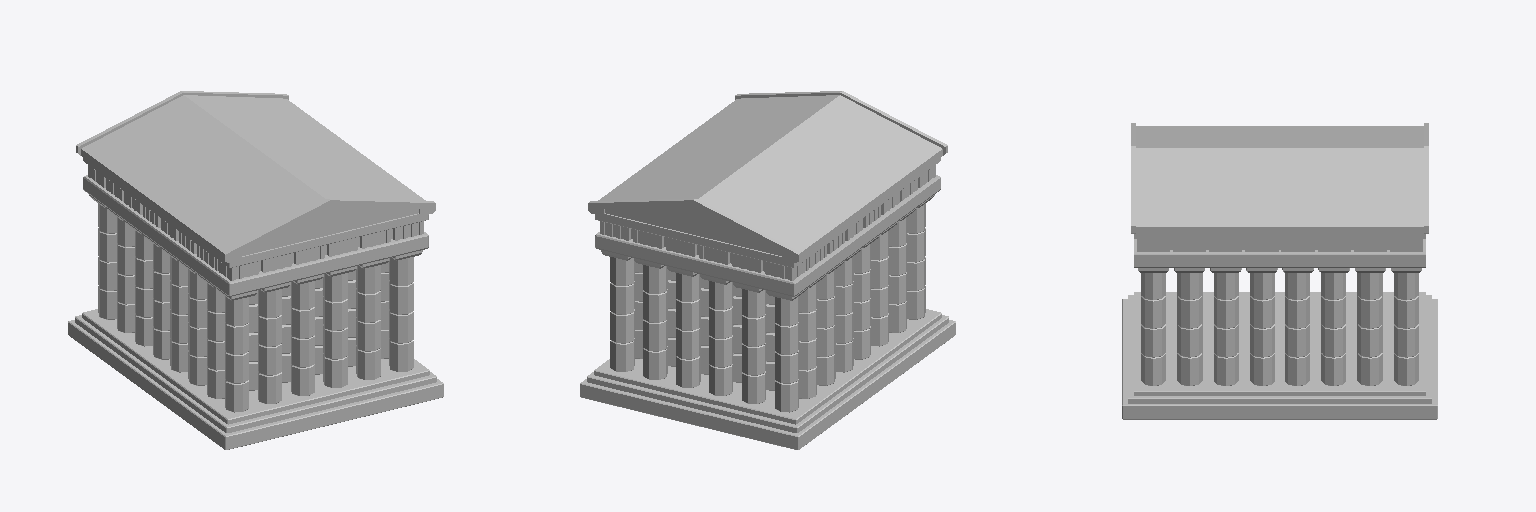
The model's file is Parthenon.obj.
3 renders of one model, left to right at view 1: azimuth 30°, elevation 25°; view 2: azimuth 150°, elevation 25°; view 3: azimuth 270°, elevation 25°, orthographic.
Visible parts, largest first — view 1: Cube_Cube.007, pillars_a_Cylinder.001, pillars_b_Cylinder.003, base_Cube, cieling_Cube.002, base_topper_2_Cube.005, fancy_Cube.006, base_topper_Cube.001, cieling_2_Cube.004, pillar_tops_Cube.003; view 2: Cube_Cube.007, pillars_b_Cylinder.003, pillars_a_Cylinder.001, base_Cube, cieling_Cube.002, base_topper_2_Cube.005, fancy_Cube.006, base_topper_Cube.001, cieling_2_Cube.004, pillar_tops_Cube.003; view 3: Cube_Cube.007, pillars_b_Cylinder.003, base_topper_2_Cube.005, pillars_a_Cylinder.001, base_Cube, cieling_Cube.002, fancy_Cube.006, base_topper_Cube.001, cieling_2_Cube.004, pillar_tops_Cube.003.
Part boxes in pixels (x1,y1,x2,y2): Cube_Cube.007: (76, 91, 435, 262); pillars_a_Cylinder.001: (100, 205, 407, 410); pillars_b_Cylinder.003: (98, 203, 413, 412); base_Cube: (68, 320, 443, 449); cieling_Cube.002: (83, 175, 428, 296); base_topper_2_Cube.005: (82, 309, 429, 424); fancy_Cube.006: (88, 165, 423, 280); base_topper_Cube.001: (75, 315, 436, 432); cieling_2_Cube.004: (83, 158, 428, 267); pillar_tops_Cube.003: (89, 195, 422, 300); Cube_Cube.007: (588, 91, 947, 262); pillars_b_Cylinder.003: (610, 204, 925, 412); pillars_a_Cylinder.001: (616, 203, 925, 410); base_Cube: (580, 320, 955, 449); cieling_Cube.002: (595, 175, 940, 296); base_topper_2_Cube.005: (594, 309, 941, 424); fancy_Cube.006: (600, 165, 935, 280); base_topper_Cube.001: (587, 315, 948, 432); cieling_2_Cube.004: (595, 158, 940, 267); pillar_tops_Cube.003: (601, 195, 934, 300); Cube_Cube.007: (1131, 123, 1428, 233); pillars_b_Cylinder.003: (1141, 273, 1418, 385); base_topper_2_Cube.005: (1134, 292, 1425, 395); pillars_a_Cylinder.001: (1151, 273, 1406, 383); base_Cube: (1122, 299, 1437, 419); cieling_Cube.002: (1134, 239, 1425, 267); fancy_Cube.006: (1137, 239, 1422, 251); base_topper_Cube.001: (1128, 295, 1431, 403); cieling_2_Cube.004: (1134, 234, 1425, 238); pillar_tops_Cube.003: (1138, 268, 1421, 272).
Bounding box in the file's own units: 1.6 × 1.54 × 2.